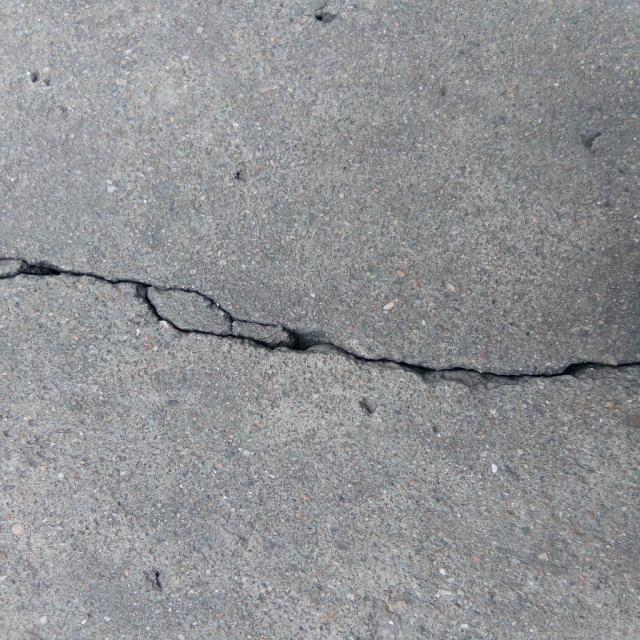cracks: (0, 242, 640, 406)
